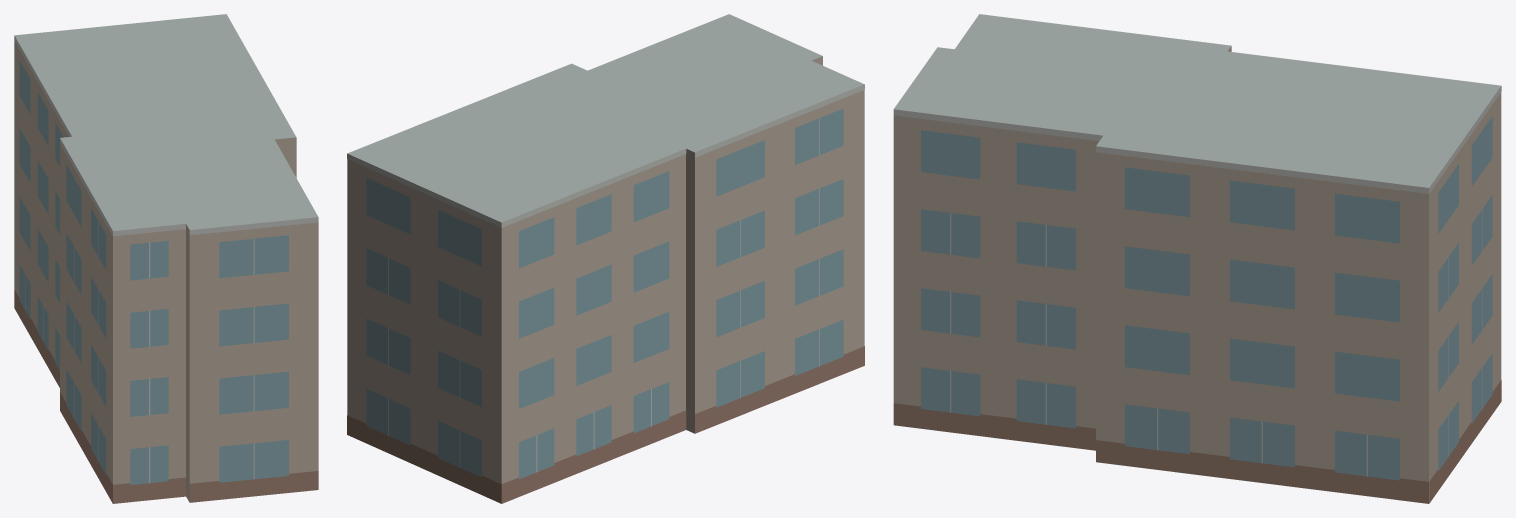
File: survey-upis-32829004.glb
3 views of the same model, side by side, from view 1: azimuth 30°, elevation 25°; view 2: azimuth 150°, elevation 25°; view 3: azimuth 270°, elevation 25° (orthographic). The views are drawn at different scales.
Visible parts, largest first — view 1: survey-upis-32829004.tmp; view 2: survey-upis-32829004.tmp; view 3: survey-upis-32829004.tmp.
Part boxes in pixels (x1,y1,x2,y2): survey-upis-32829004.tmp: (14,14,318,503); survey-upis-32829004.tmp: (347,14,864,503); survey-upis-32829004.tmp: (893,14,1501,503).
Size of the model in its own units: 15.01 by 12.7 by 22.16.
